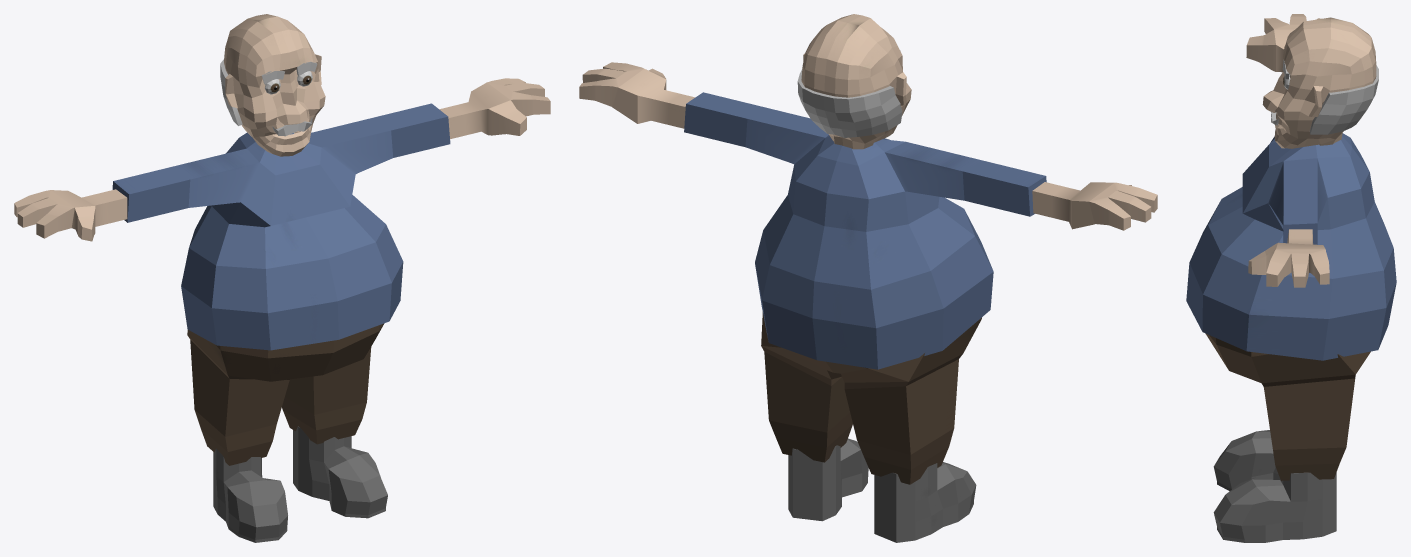
File: man001.fbx
The picture shows the model from 3 angles, left to right: view 1: azimuth 30°, elevation 25°; view 2: azimuth 150°, elevation 25°; view 3: azimuth 270°, elevation 25°; orthographic projection. The views are drawn at different scales.
Visible parts, largest first — view 1: oldMan; view 2: oldMan; view 3: oldMan.
Part boxes in pixels (box(x1,y1,x2,y2)): oldMan: box(14, 14, 550, 542); oldMan: box(579, 14, 1157, 542); oldMan: box(1186, 14, 1396, 542).
Bounding box in the file's own units: 28.65 × 24.63 × 9.69.
Materials: 1 (1 with a texture image).
